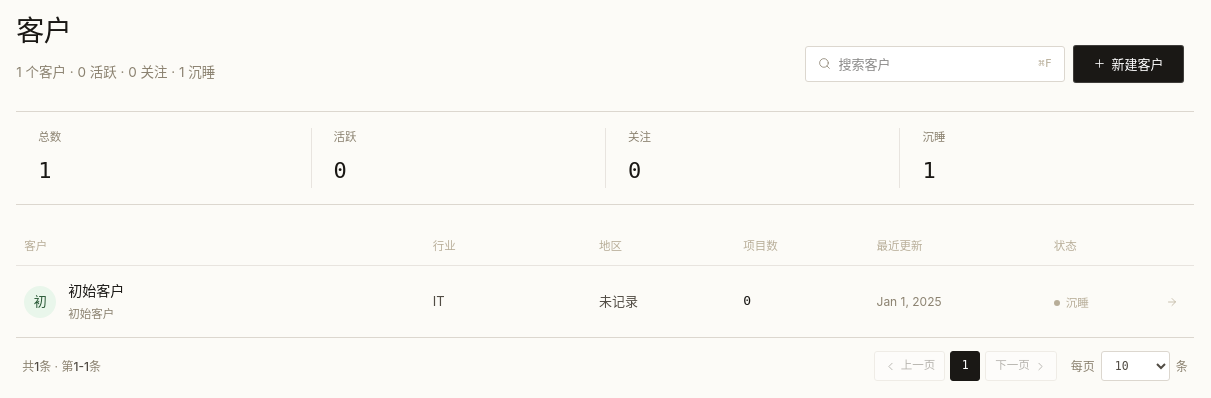
Test case: Clients › keeps the newest client search when requests finish out of order
This screenshot has width=1211, height=398.
Step 1. Type "旧客户" into the field labelled "搜索客户" → point(934, 64), box top-left (838, 54), bottom-right (1030, 74)
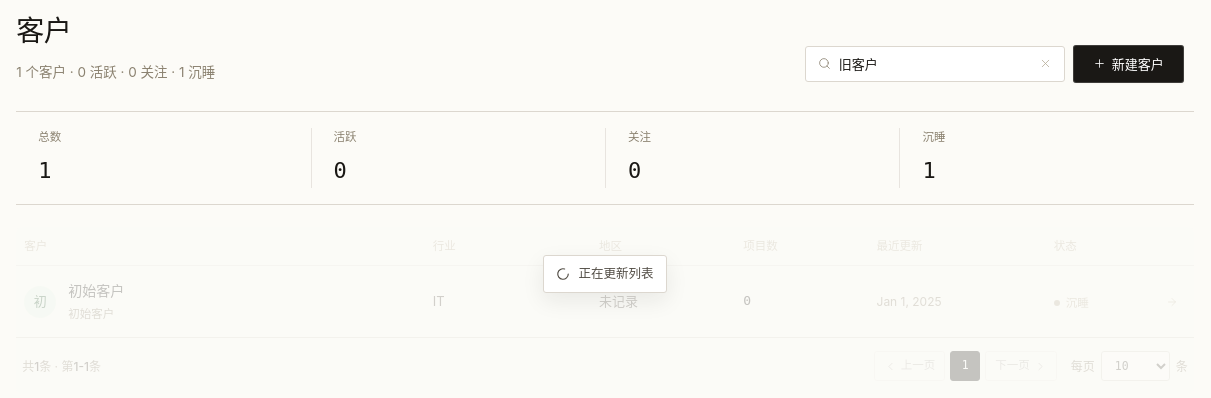
Step 2. Replace the text in the field named "搜索客户" with "新客户" → point(935, 64), box top-left (839, 54), bottom-right (1031, 74)
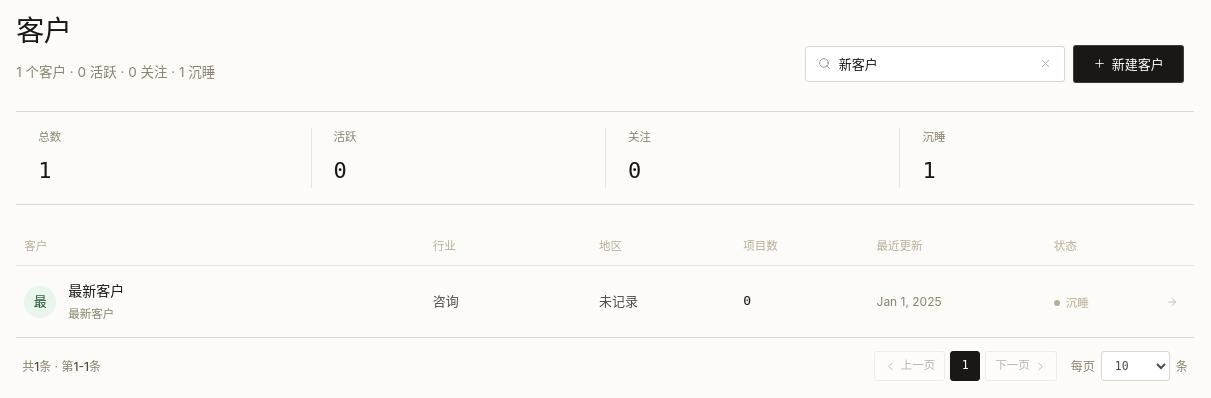
Expected: the 1st text "最新客户" is shown, top-left (68, 280), bottom-right (124, 303)
